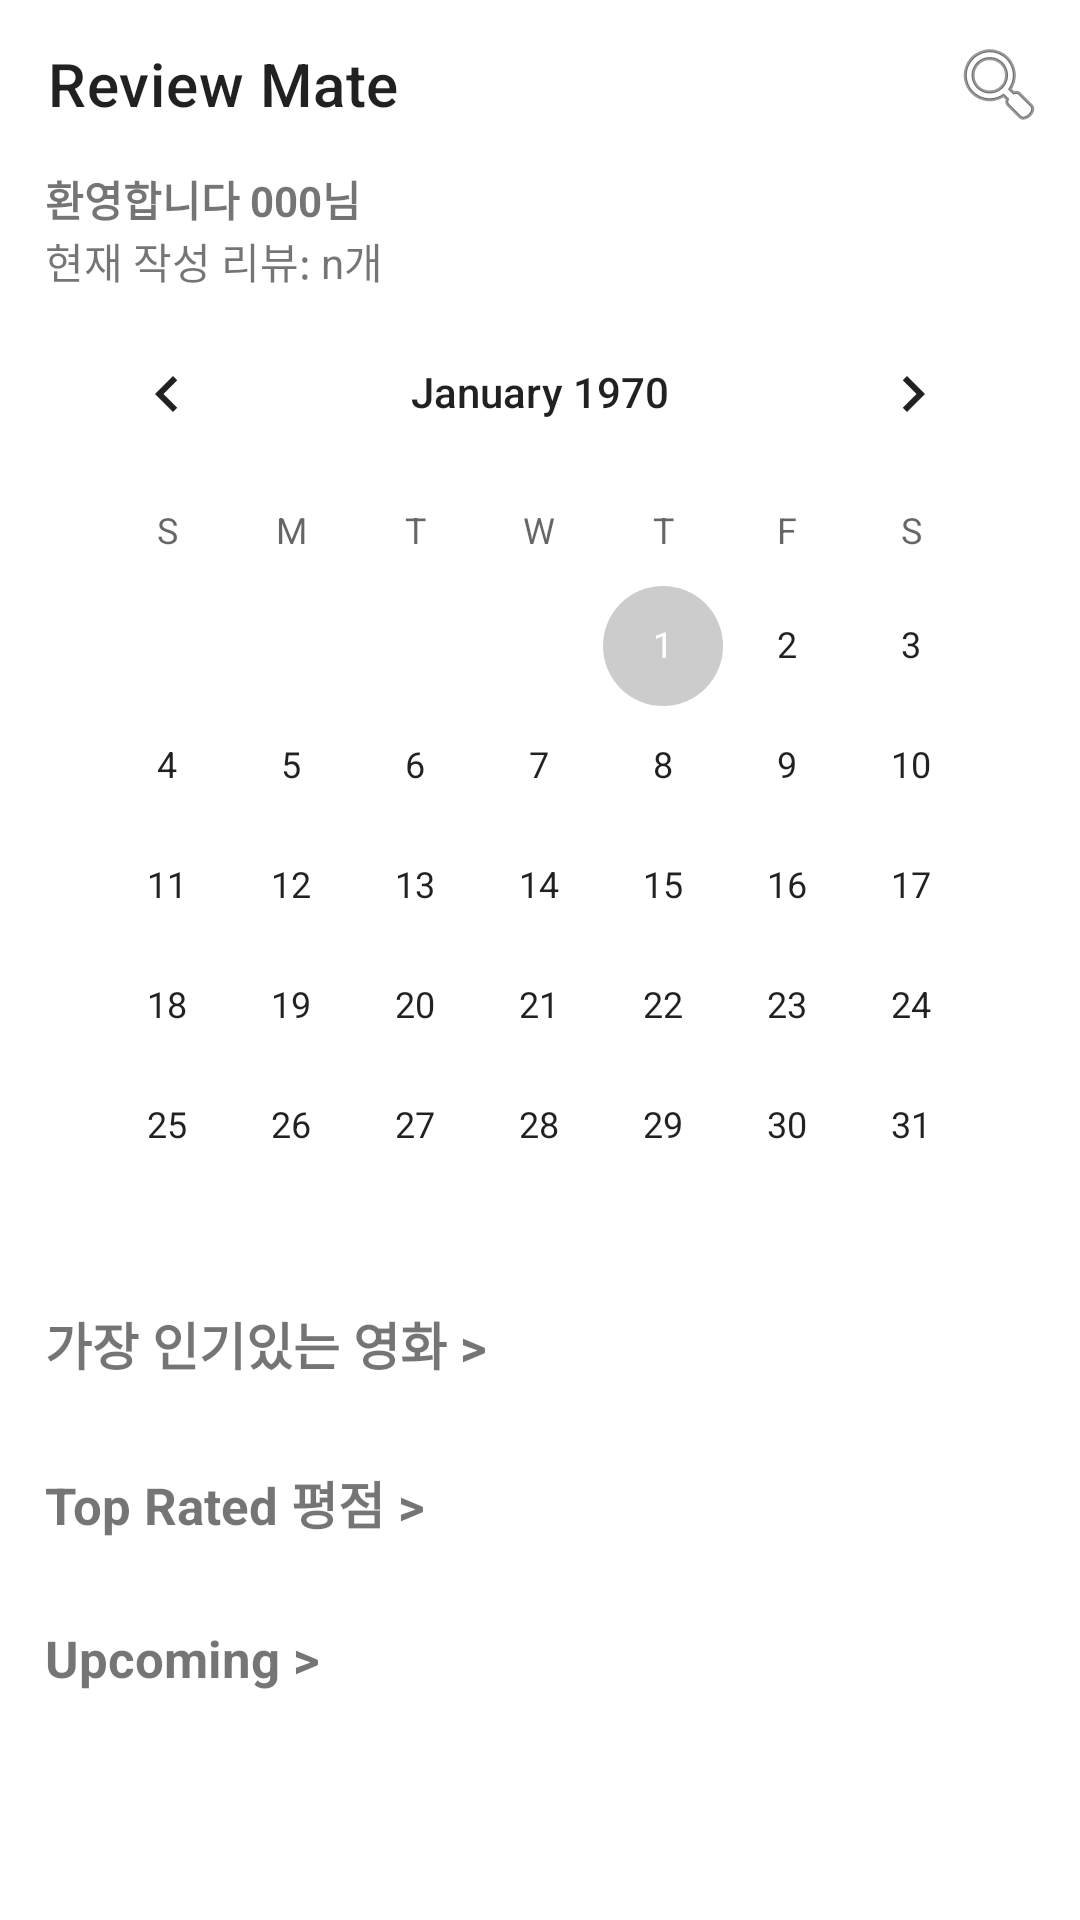

Where icons sit on this 1080x1920 app screen, as (x1, y1, x2, y2):
search: (963, 49, 1035, 120)
